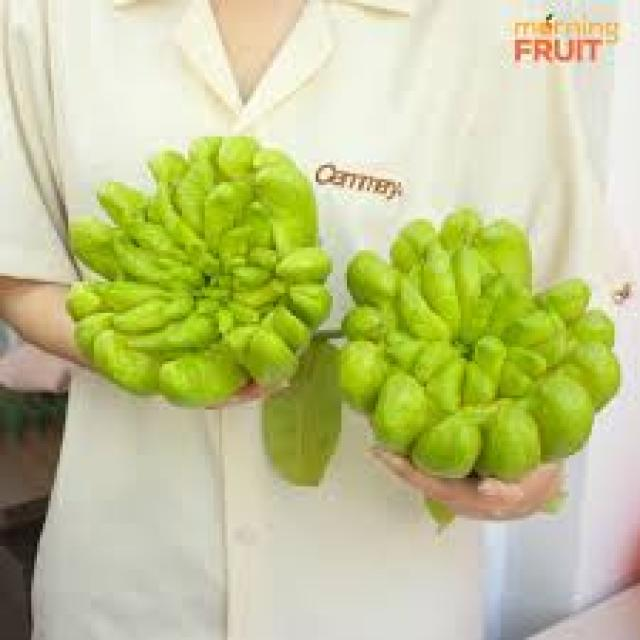PhatThu: (332, 201, 618, 530), (40, 123, 329, 431)
